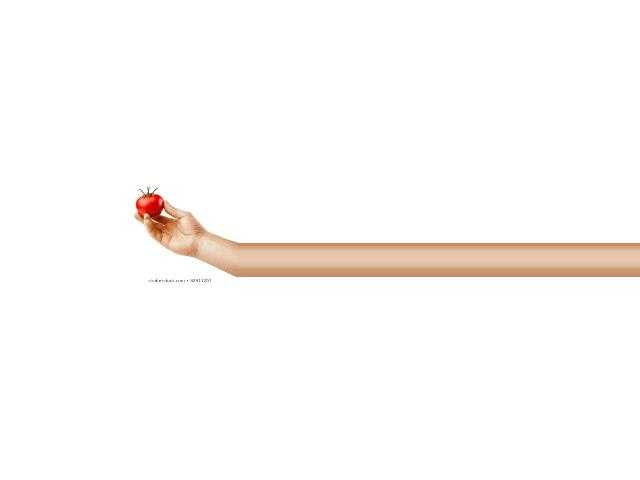tomato: (136, 194, 164, 218)
